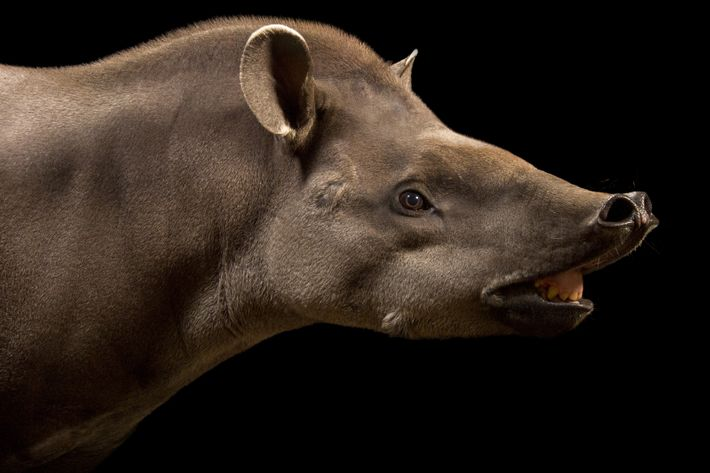Anta: (6, 12, 659, 446)
